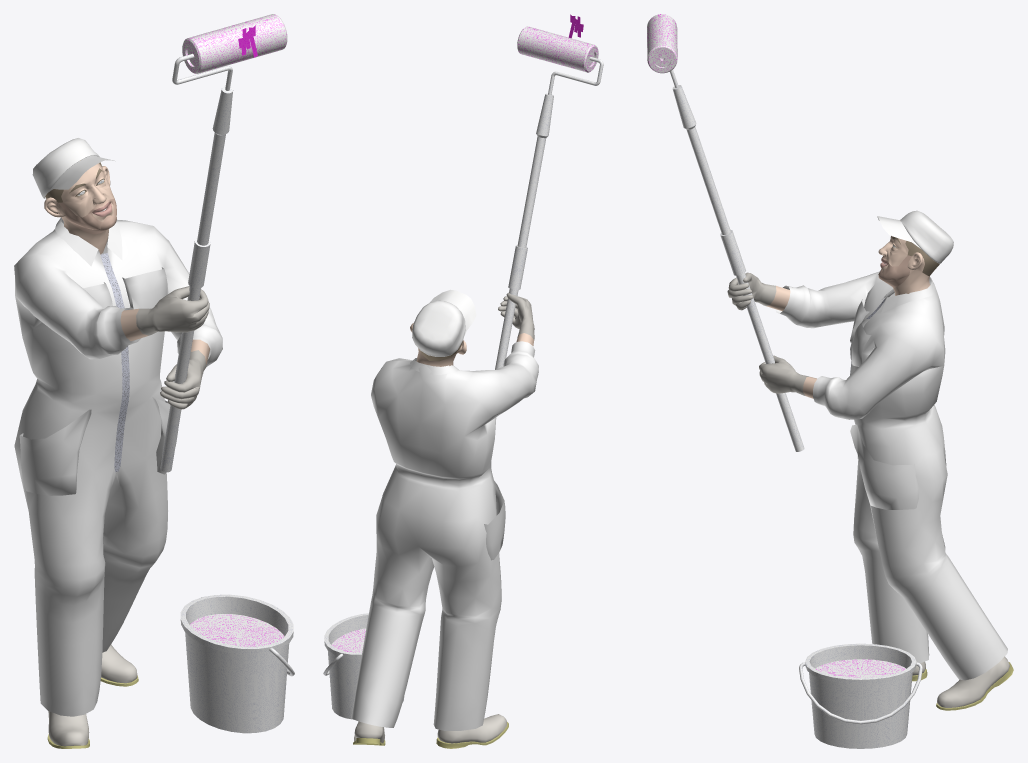
The model's file is painter_with_roller.dae.
The picture shows the model from 3 angles, left to right: view 1: azimuth 30°, elevation 25°; view 2: azimuth 150°, elevation 25°; view 3: azimuth 270°, elevation 25°; orthographic projection. The views are drawn at different scales.
Visible parts, largest first — view 1: group_1, group_0.006, group_0.004, group_1.001, group_0.002, group_1.007, group_1.010, group_0.001, group_1.011, group_1.006, group_1.005, group_1.004 (+7 smaller); view 2: group_1, group_1.010, group_0.004, group_0.006, group_0.002, group_1.033, group_1.001, group_1.007, group_0.001; view 3: group_1, group_0.006, group_0.004, group_1.003, group_1.010, group_0.002, group_1.034, group_0.001, group_1.006, group_1.007, group_1.012, group_0.005.
Boxes of the visible parts, x1,y1,x2,y2 form: group_1: [14, 217, 222, 716]; group_0.006: [180, 594, 293, 733]; group_0.004: [160, 86, 233, 472]; group_1.001: [19, 409, 91, 495]; group_0.002: [182, 14, 287, 73]; group_1.007: [136, 286, 209, 335]; group_1.010: [32, 138, 115, 198]; group_0.001: [190, 614, 284, 646]; group_1.011: [61, 163, 114, 217]; group_1.006: [160, 350, 206, 409]; group_1.005: [100, 253, 129, 472]; group_1.004: [122, 267, 167, 309]; group_1: [351, 341, 538, 730]; group_1.010: [412, 289, 476, 356]; group_0.004: [495, 93, 553, 369]; group_0.006: [324, 613, 404, 719]; group_0.002: [517, 26, 598, 72]; group_1.033: [437, 714, 506, 743]; group_1.001: [484, 480, 505, 560]; group_1.007: [498, 292, 534, 339]; group_0.001: [331, 628, 366, 652]; group_1: [775, 271, 1007, 680]; group_0.006: [805, 643, 916, 748]; group_0.004: [672, 85, 804, 451]; group_1.003: [850, 424, 918, 509]; group_1.010: [877, 210, 953, 263]; group_0.002: [647, 14, 677, 73]; group_1.034: [937, 656, 1009, 707]; group_0.001: [815, 659, 905, 677]; group_1.006: [759, 355, 808, 395]; group_1.007: [727, 272, 776, 310]; group_1.012: [893, 252, 930, 295]; group_0.005: [799, 662, 922, 724].
Bounding box in the file's own units: 0.4233 × 0.7069 × 1.36.
